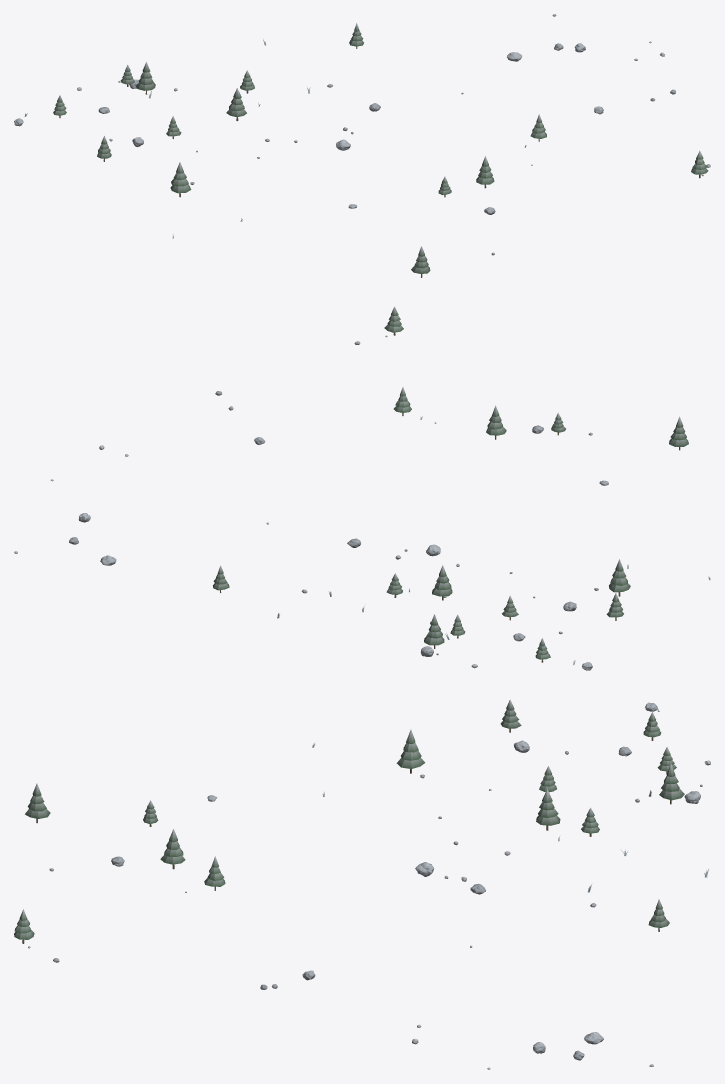
Rendered from frost_land_scatter_c16_11.glb.
3 renders of one model, top to bottom at view 1: azimuth 30°, elevation 25°; view 2: azimuth 150°, elevation 25°; view 3: azimuth 270°, elevation 25°, orthographic. The views are drawn at different scales.
Visible parts, largest first — view 1: frost_land_scatter_c16_11; view 2: frost_land_scatter_c16_11; view 3: frost_land_scatter_c16_11.
Part boxes in pixels (x1,y1,x2,y2): frost_land_scatter_c16_11: (14,14,710,277); frost_land_scatter_c16_11: (14,306,710,670); frost_land_scatter_c16_11: (14,699,710,1069).
Bounding box in the file's own units: 245 × 35.89 × 206.
